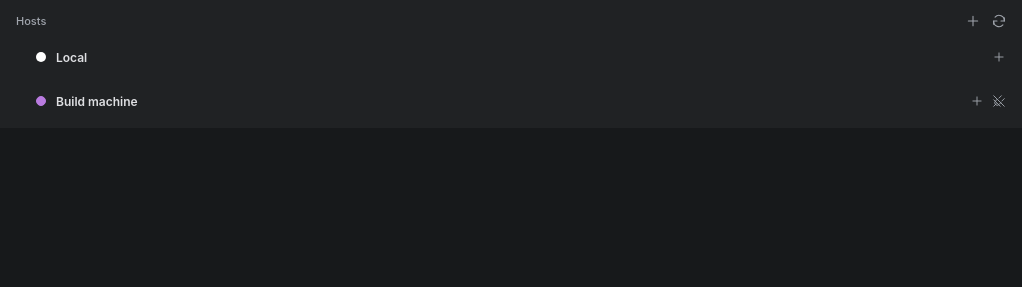
SessionSidebar › opens host details on keyboard focus with sessions present=false
Expected: the text "SSH connected" is not shown
Focus the element showing "Build machine" at (97, 101), box x1=56 y1=94 x2=138 y2=108
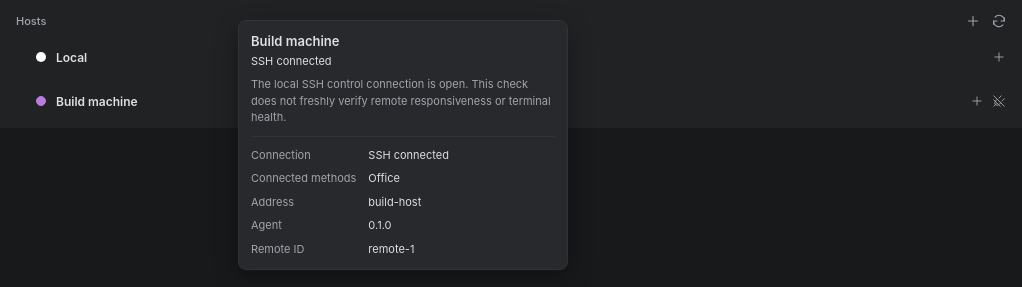
Now the tooltip shows "SSH connected", box x1=251 y1=54 x2=332 y2=68
Now the tooltip shows "Office", box x1=368 y1=171 x2=400 y2=185
Now the tooltip shows "remote-1", box x1=368 y1=242 x2=414 y2=256
Press Escape in the element showing "Build machine", box x1=56 y1=94 x2=138 y2=108
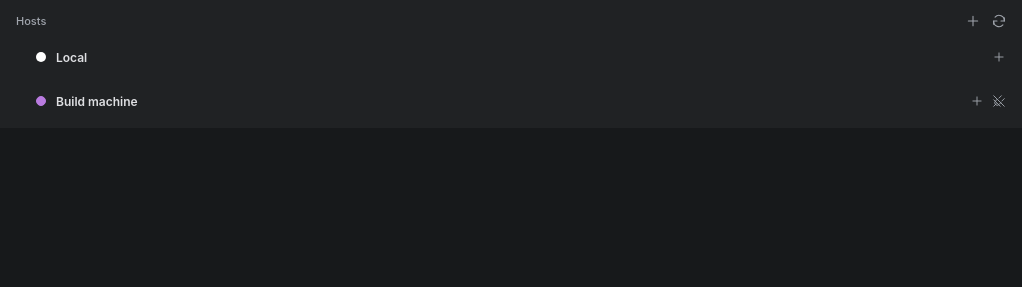
Now the tooltip is gone
